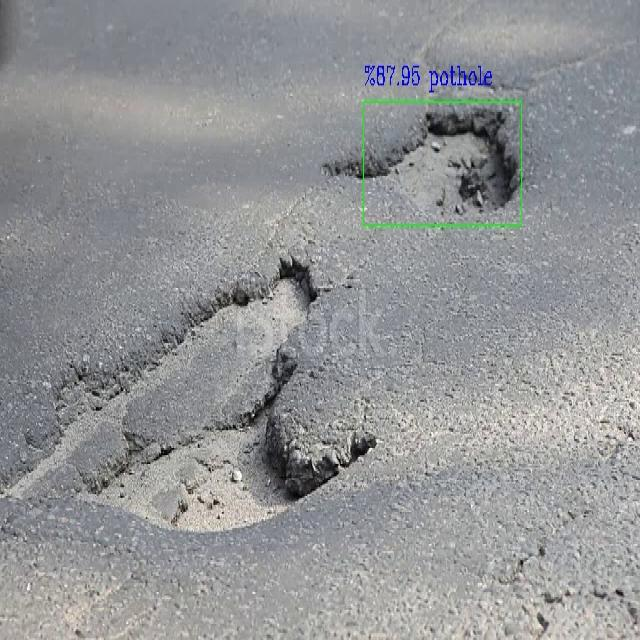pothole: (2, 249, 380, 542), (366, 105, 518, 222)
